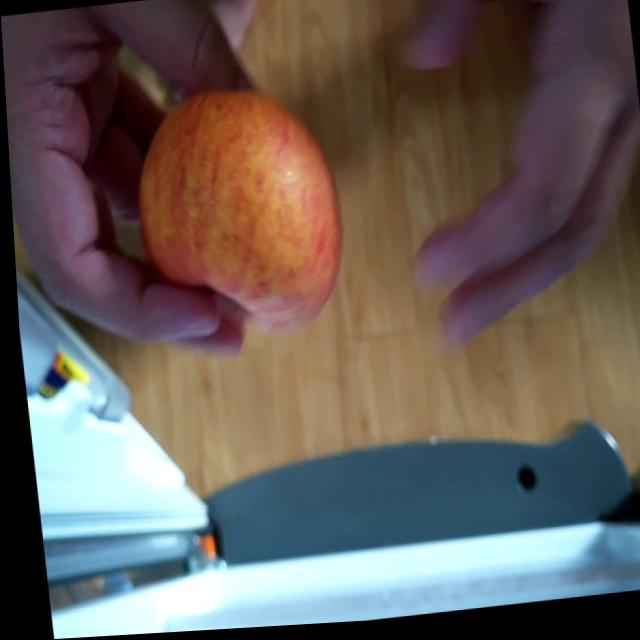apple: (127, 86, 352, 344)
